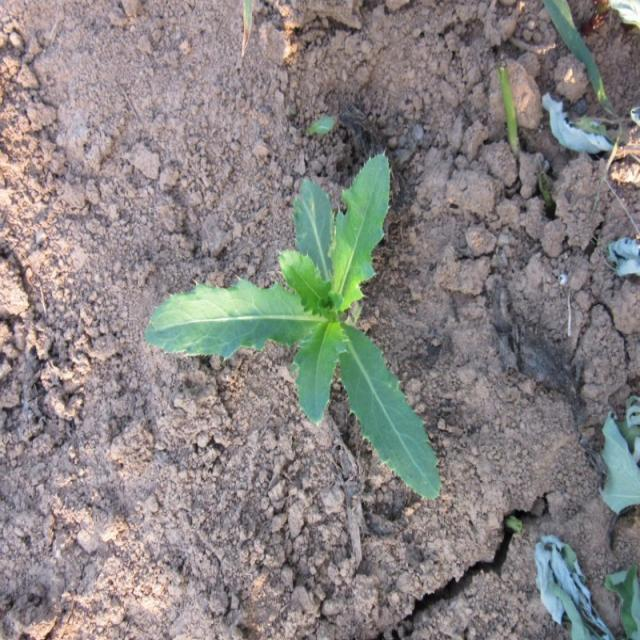cs: (144, 147, 444, 505)
